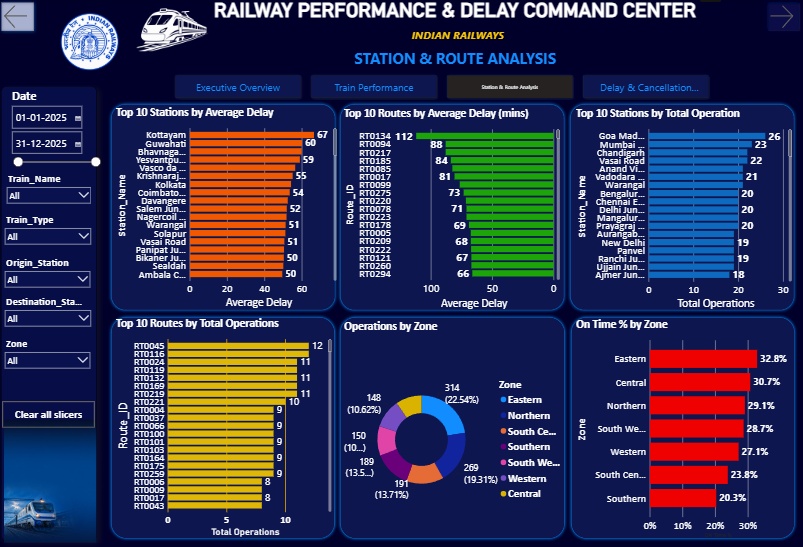

The page's visual inventory and layout, read from the dashboard file:
{"tool":"powerbi","page":{"name":"Station & Route Analysis","canvas":[2050,1400],"ordinal":2},"visuals":[{"type":"textbox","box":[8.4,221.2,243.6,1159.2],"z":0},{"type":"slicer","fields":{"Values":["Train_operations.Travel_Date"]},"box":[22.8,222.4,247,267.8],"z":1000},{"type":"slicer","fields":{"Values":["Trains.Train_Name"]},"box":[13,434.2,234,106.6],"z":2000},{"type":"image","box":[14,1052.8,235.2,347.2],"z":3000},{"type":"slicer","fields":{"Values":["Routes.Destination_Station"]},"box":[7.8,748.8,239.2,106.6],"z":4000},{"type":"slicer","fields":{"Values":["Routes.Origin_Station"]},"box":[7.8,650,236.6,96.2],"z":5000},{"type":"slicer","fields":{"Values":["Trains.Train_Type"]},"box":[7.8,540.8,239.2,109.2],"z":6000},{"type":"slicer","fields":{"Values":["Stations.Zone"]},"box":[7.8,855.4,236.6,117],"z":7000},{"type":"shape","box":[280,260.4,586.5,540.7],"z":8000},{"type":"shape","box":[862.4,260.4,586.5,540.7],"z":9000},{"type":"shape","box":[1447.6,260.4,586.5,540.7],"z":10000},{"type":"clusteredBarChart","title":"Top 10 Stations by Total Operation","fields":{"Category":["Stations.Station_Name"],"Y":["ALL Measures.Total Operations"]},"box":[1467.2,271.6,559.6,524.6],"z":11000},{"type":"clusteredBarChart","title":"Top 10 Stations by Average Delay","fields":{"Category":["Stations.Station_Name"],"Y":["ALL Measures.Average Delay"]},"box":[294,268.8,572,525.2],"z":12000},{"type":"shape","box":[280,800.8,585.2,579.6],"z":13000},{"type":"clusteredBarChart","title":"Top 10 Routes by Total Operations","fields":{"Category":["Train_operations.Route_ID"],"Y":["ALL Measures.Total Operations"]},"box":[294,806.4,558.8,567.4],"z":14000},{"type":"clusteredBarChart","title":"Top 10 Routes by Average Delay (mins)","fields":{"Category":["Routes.Route_ID"],"Y":["ALL Measures.Average Delay"]},"box":[876.4,271.6,559.6,524.6],"z":15000},{"type":"shape","box":[1450.4,800.8,585,579.8],"z":16000},{"type":"shape","box":[862.4,800.8,587.6,579.8],"z":17000},{"type":"donutChart","title":"Operations by Zone ","fields":{"Category":["Stations.Zone"],"Y":["ALL Measures.Total Operations"]},"box":[876.4,814.8,574.6,566.8],"z":18000},{"type":"clusteredBarChart","title":"On Time % by Zone","fields":{"Category":["Stations.Zone"],"Y":["ALL Measures.ON Time %"]},"box":[1467.2,809.2,572,566.8],"z":19000},{"type":"actionButton","box":[1950,0,100,90],"z":20000},{"type":"textbox","title":"RAILWAY PERFORMANCE & DELAY COMMAND CENTER","box":[420,0,1486.8,184.8],"z":21000},{"type":"image","box":[148.2,0,247,221],"z":22000},{"type":"image","box":[348.4,0,189.8,156],"z":23000},{"type":"actionButton","box":[0,0,100,90],"z":24000},{"type":"pageNavigator","box":[442.4,184.8,1374.8,75.6],"z":25000},{"type":"actionButton","box":[11.2,1022,236.6,68.4],"z":26000}]}

Visuals, with their boxes in screenshot pixels (x1, y1, x2, y2), scaled from the page's 2050x1400 canvas onto the 803x547 screenshot:
textbox: {"left": 3, "top": 86, "right": 99, "bottom": 539}
slicer - Train_operations.Travel_Date: {"left": 9, "top": 87, "right": 106, "bottom": 192}
slicer - Trains.Train_Name: {"left": 5, "top": 170, "right": 97, "bottom": 211}
image: {"left": 5, "top": 411, "right": 98, "bottom": 546}
slicer - Routes.Destination_Station: {"left": 3, "top": 293, "right": 97, "bottom": 334}
slicer - Routes.Origin_Station: {"left": 3, "top": 254, "right": 96, "bottom": 292}
slicer - Trains.Train_Type: {"left": 3, "top": 211, "right": 97, "bottom": 254}
slicer - Stations.Zone: {"left": 3, "top": 334, "right": 96, "bottom": 380}
shape: {"left": 110, "top": 102, "right": 339, "bottom": 313}
shape: {"left": 338, "top": 102, "right": 568, "bottom": 313}
shape: {"left": 567, "top": 102, "right": 797, "bottom": 313}
"Top 10 Stations by Total Operation" clusteredBarChart: {"left": 575, "top": 106, "right": 794, "bottom": 311}
"Top 10 Stations by Average Delay" clusteredBarChart: {"left": 115, "top": 105, "right": 339, "bottom": 310}
shape: {"left": 110, "top": 313, "right": 339, "bottom": 539}
"Top 10 Routes by Total Operations" clusteredBarChart: {"left": 115, "top": 315, "right": 334, "bottom": 537}
"Top 10 Routes by Average Delay (mins)" clusteredBarChart: {"left": 343, "top": 106, "right": 562, "bottom": 311}
shape: {"left": 568, "top": 313, "right": 797, "bottom": 539}
shape: {"left": 338, "top": 313, "right": 568, "bottom": 539}
"Operations by Zone " donutChart: {"left": 343, "top": 318, "right": 568, "bottom": 540}
"On Time % by Zone" clusteredBarChart: {"left": 575, "top": 316, "right": 799, "bottom": 538}
actionButton: {"left": 764, "top": 0, "right": 802, "bottom": 35}
"RAILWAY PERFORMANCE & DELAY COMMAND CENTER" textbox: {"left": 165, "top": 0, "right": 747, "bottom": 72}
image: {"left": 58, "top": 0, "right": 155, "bottom": 86}
image: {"left": 136, "top": 0, "right": 211, "bottom": 61}
actionButton: {"left": 0, "top": 0, "right": 39, "bottom": 35}
pageNavigator: {"left": 173, "top": 72, "right": 712, "bottom": 102}
actionButton: {"left": 4, "top": 399, "right": 97, "bottom": 426}
